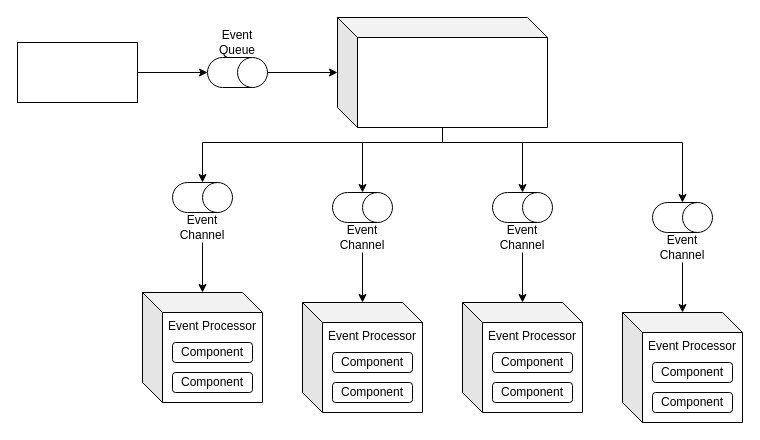
Some shapes in this 760 by 440 pixel diagram are drawn without their labels. Each missing label, with the box of its shape:
Event Mediator: (336, 16, 548, 128)
Initiating Event: (16, 42, 138, 102)
